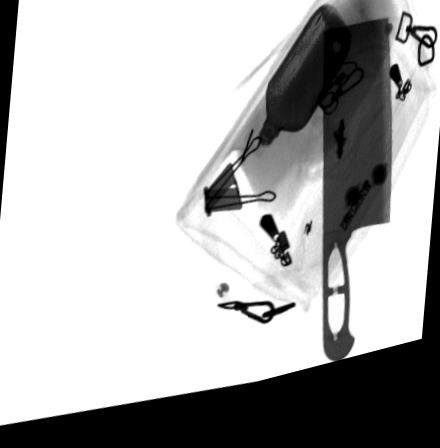Knife: (320, 34, 393, 379)
